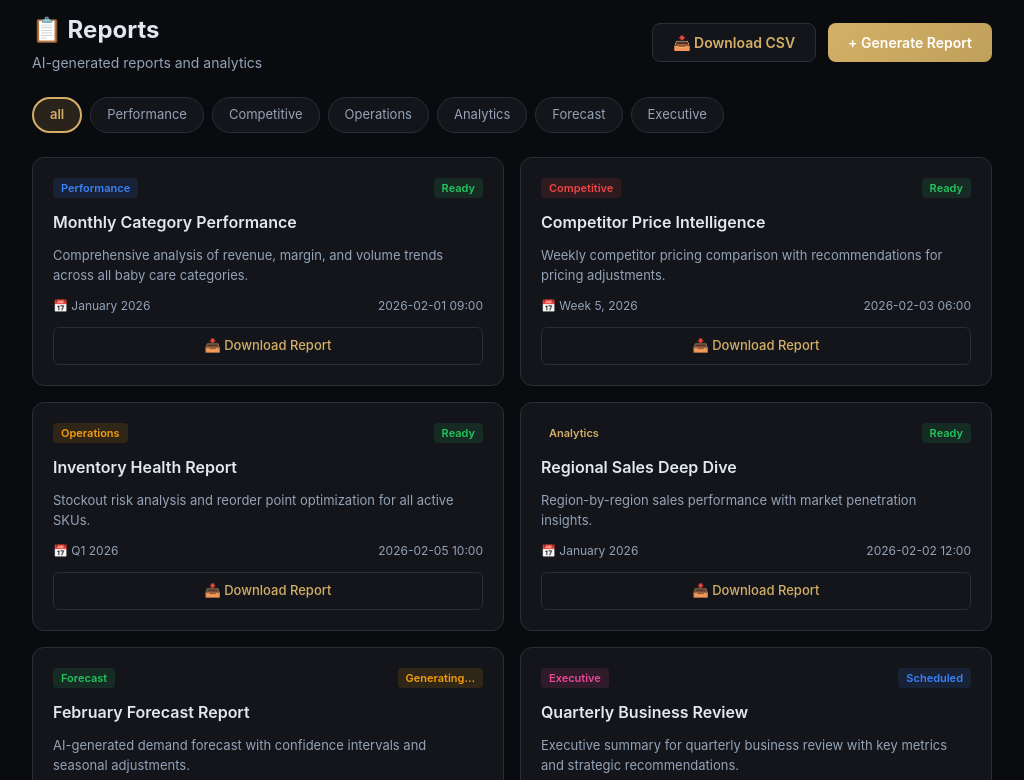
Scenario: Reports page › shows Downloading... text while downloading
Click the button "📥 Download CSV": (734, 42) [652,23,816,62]
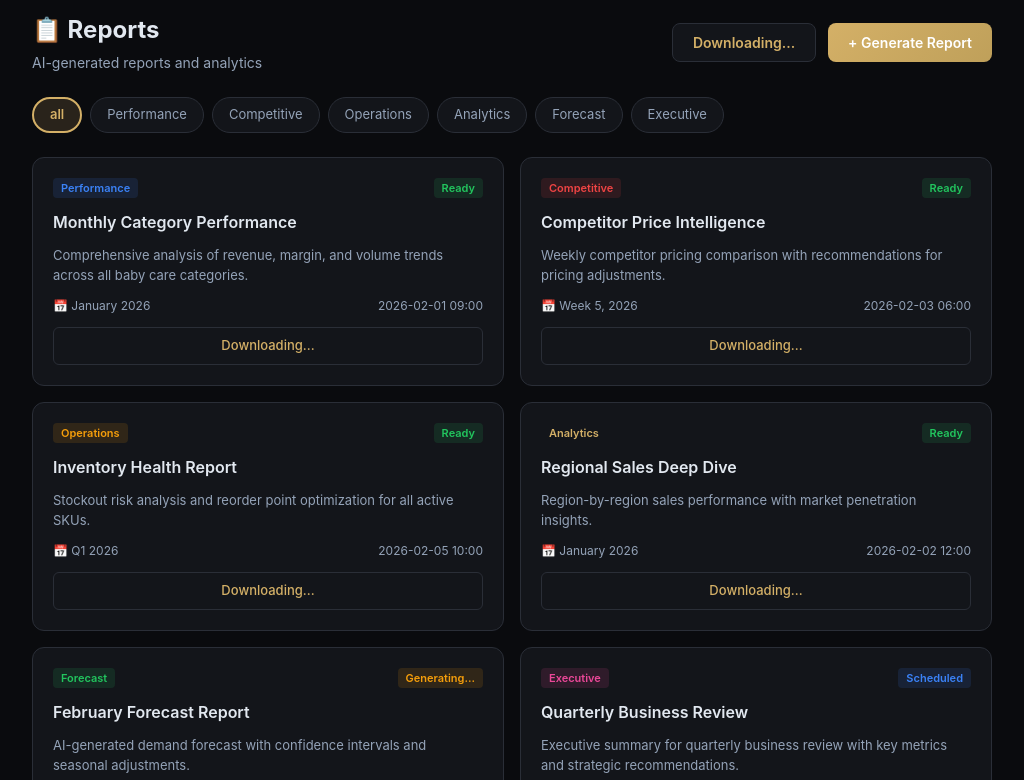
Expected: the button "Downloading..." in the row of "AI-generated reports and analytics" is shown, [672,23,816,62]
